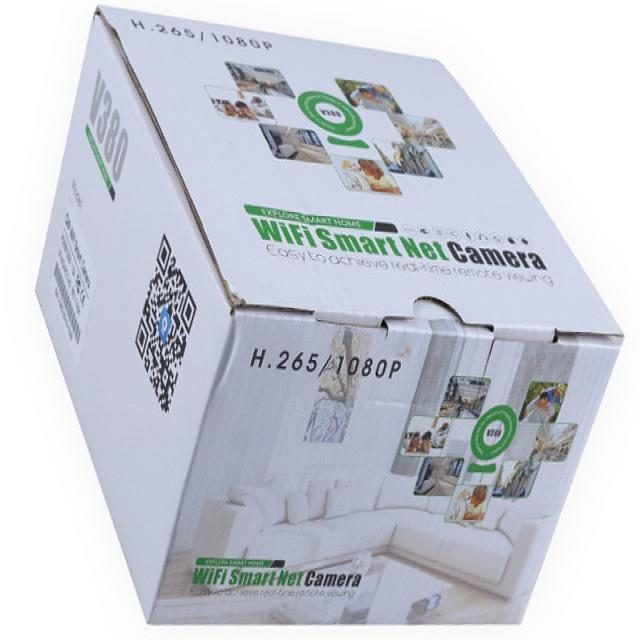box: (33, 2, 621, 622)
